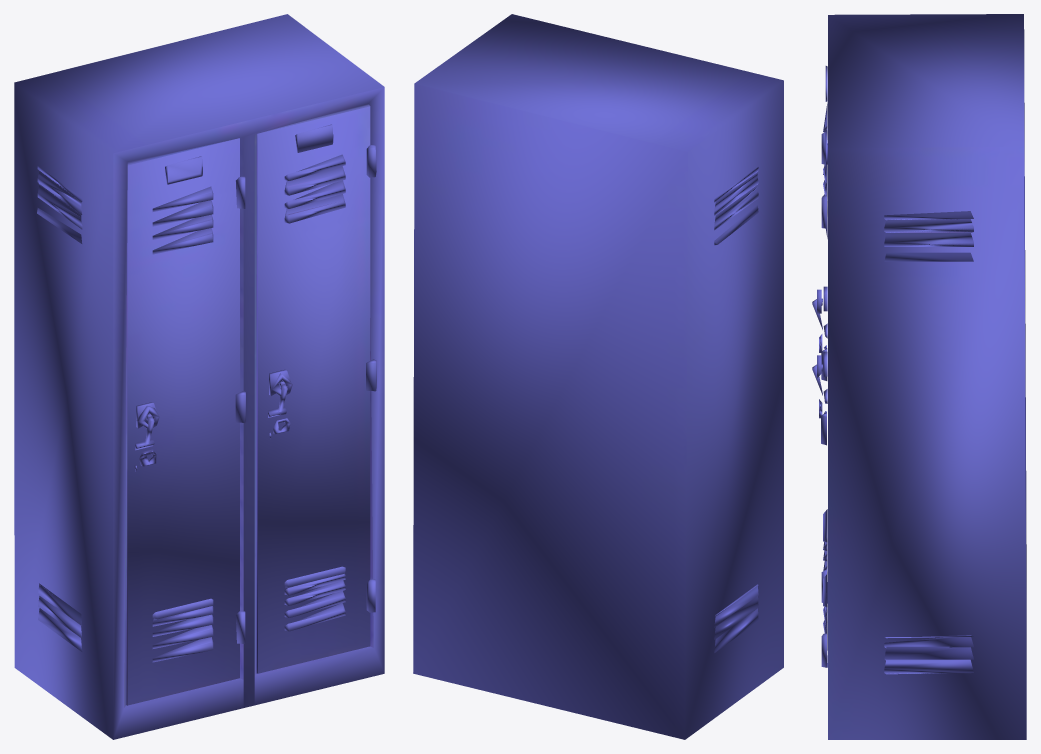
Rendered from model.progressive.glb.
3 renders of one model, left to right at view 1: azimuth 30°, elevation 25°; view 2: azimuth 150°, elevation 25°; view 3: azimuth 270°, elevation 25°, orthographic.
Parts seen in each view (by area): view 1: material; view 2: material; view 3: material.
Part boxes in pixels (bbox=[...]): material: bbox=[14, 14, 384, 739]; material: bbox=[413, 14, 783, 739]; material: bbox=[812, 14, 1026, 739].
Size of the model in its own units: 0.9439 by 1.9 by 0.6214.
1 material, 1 textured.
